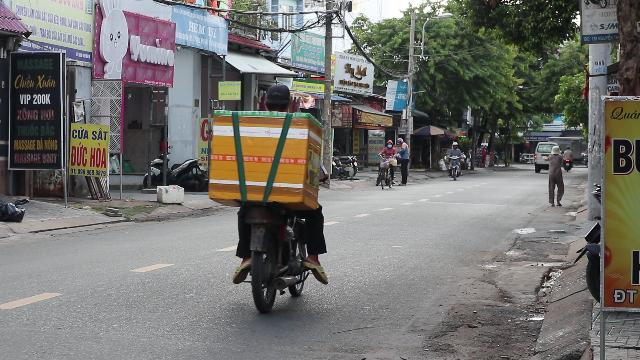motorcyclist: (204, 78, 332, 314)
nohelmet: (264, 82, 290, 112)
